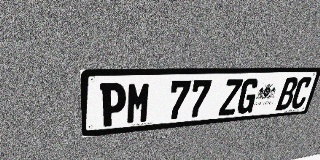7: (166, 80, 192, 121), (186, 80, 212, 119)
B: (275, 77, 299, 110)
C: (289, 77, 313, 109)
G: (235, 78, 260, 114)
M: (126, 82, 152, 125)
P: (100, 82, 127, 127)
Z: (218, 79, 243, 116)
